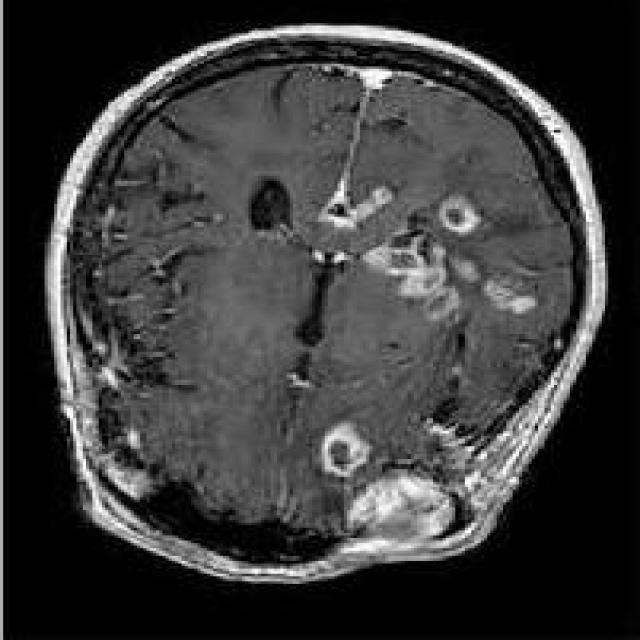Tumor-Cell: (335, 184, 538, 330), (322, 436, 454, 552)
